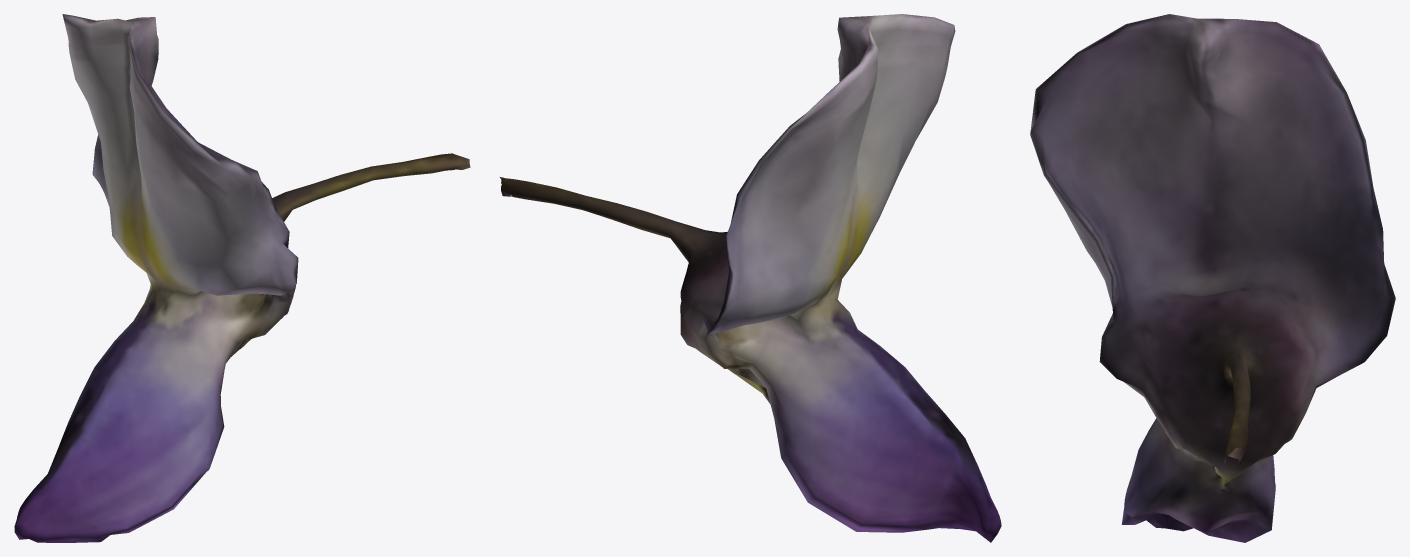
Rendered from wisteriaFlower2.fbx.
3 views of the same model, side by side, from view 1: azimuth 30°, elevation 25°; view 2: azimuth 150°, elevation 25°; view 3: azimuth 270°, elevation 25° (orthographic). The views are drawn at different scales.
Visible parts, largest first — view 1: flo3; view 2: flo3; view 3: flo3.
Boxes of the visible parts, box(x1,y1,x2,y2) form: flo3: box(14, 14, 470, 542); flo3: box(500, 14, 1001, 542); flo3: box(1030, 14, 1395, 542).
Bounding box in the file's own units: 0.6087 × 0.6093 × 0.376.
